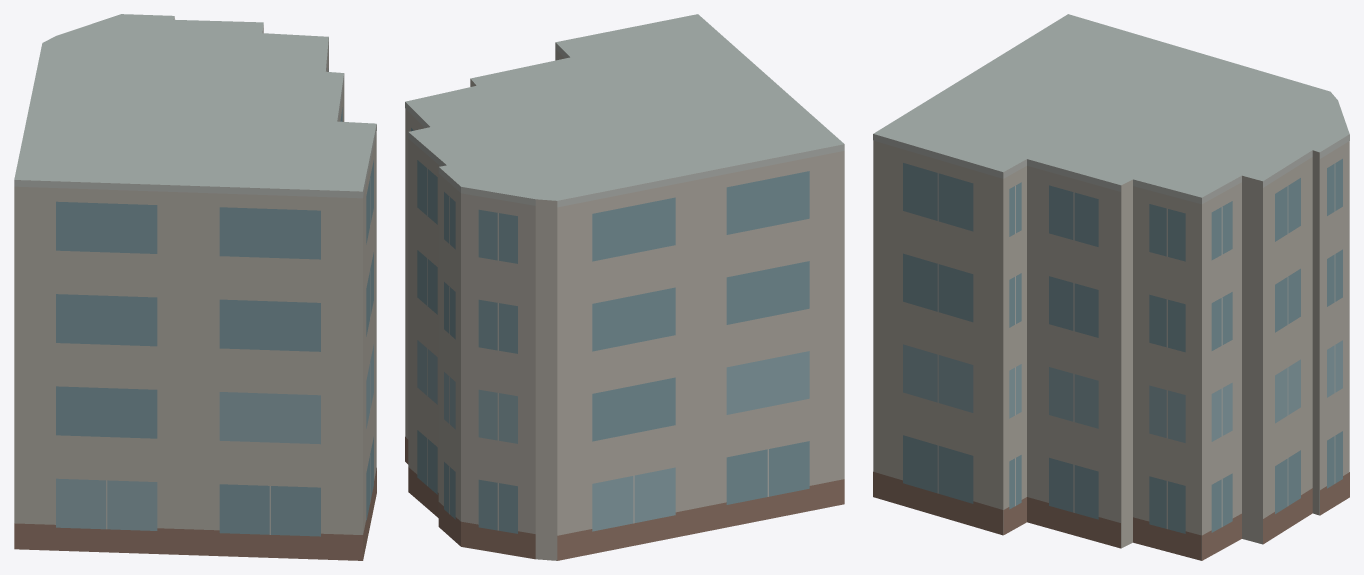
File: survey-upis-33006103.glb
3 renders of one model, left to right at view 1: azimuth 30°, elevation 25°; view 2: azimuth 150°, elevation 25°; view 3: azimuth 270°, elevation 25°, orthographic. The views are drawn at different scales.
Visible parts, largest first — view 1: survey-upis-33006103.tmp; view 2: survey-upis-33006103.tmp; view 3: survey-upis-33006103.tmp.
Boxes of the visible parts, box(x1,y1,x2,y2) form: survey-upis-33006103.tmp: box(14, 14, 376, 560); survey-upis-33006103.tmp: box(405, 14, 844, 560); survey-upis-33006103.tmp: box(873, 14, 1349, 560).
Bounding box in the file's own units: 14.43 × 13.3 × 15.83.
